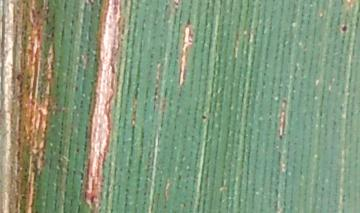tarspot: (338, 22, 352, 35), (199, 111, 209, 125), (185, 15, 192, 27)
